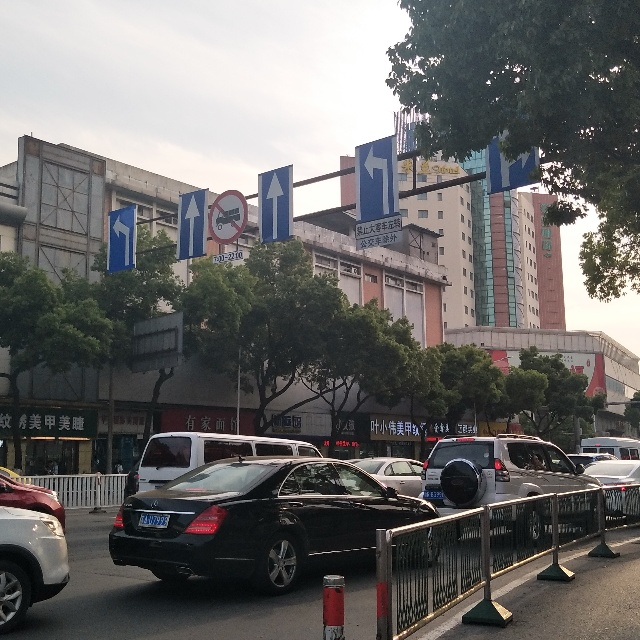left: (352, 133, 404, 223), (106, 206, 138, 274)
straight: (255, 167, 294, 242), (179, 187, 206, 262)
